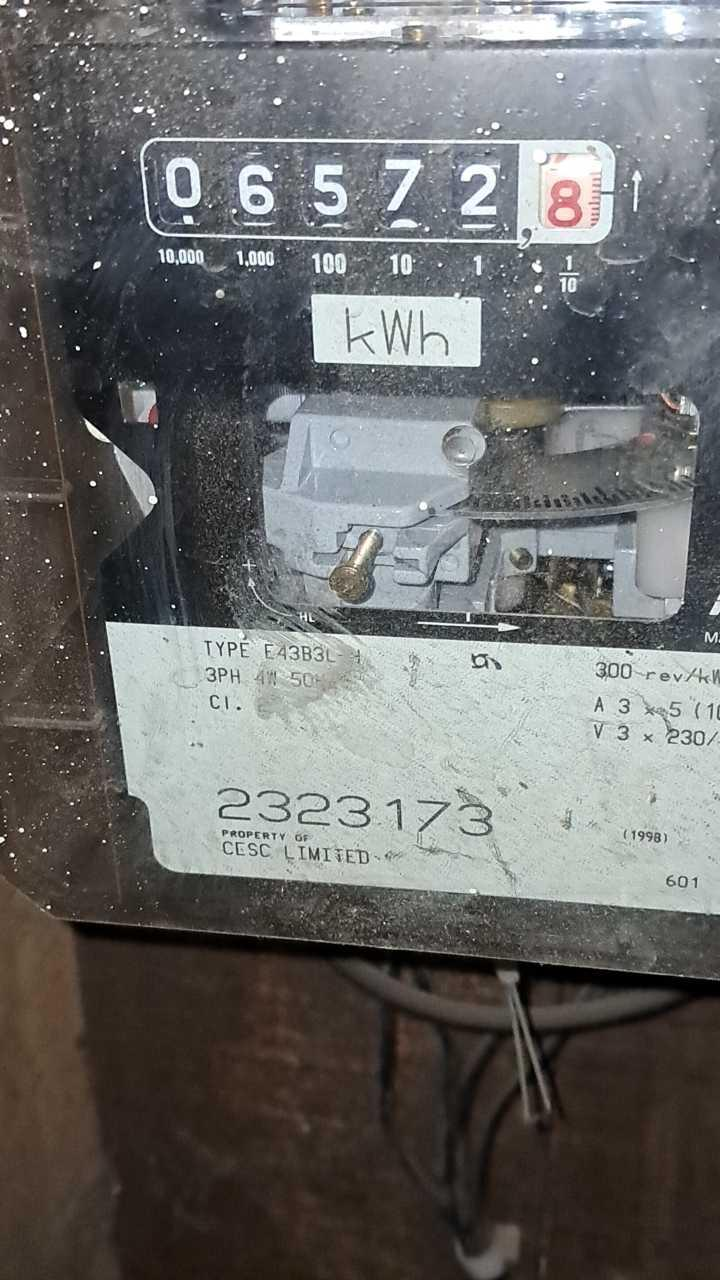meter_readings: (149, 145, 590, 234)
serial_number: (206, 781, 497, 841)
